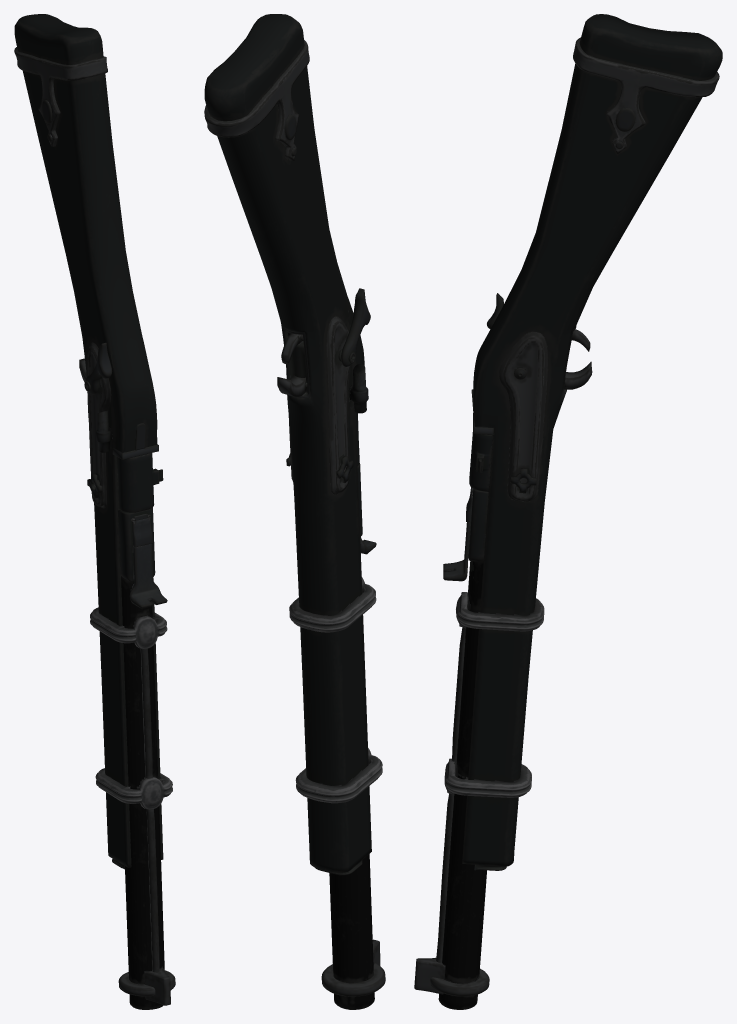
File: rifle — копия.glb
3 renders of one model, left to right at view 1: azimuth 30°, elevation 25°; view 2: azimuth 150°, elevation 25°; view 3: azimuth 270°, elevation 25°, orthographic. The views are drawn at different scales.
Parts seen in each view (by area): view 1: D01_Body_Rifle_Low_Cube.032; view 2: D01_Body_Rifle_Low_Cube.032; view 3: D01_Body_Rifle_Low_Cube.032.
Part boxes in pixels (x1,y1,x2,y2): D01_Body_Rifle_Low_Cube.032: [14, 14, 175, 1009]; D01_Body_Rifle_Low_Cube.032: [204, 14, 385, 1009]; D01_Body_Rifle_Low_Cube.032: [414, 14, 722, 1009].
Bounding box in the file's own units: 0.2181 × 3.38 × 0.9603.
1 material, 1 textured.
